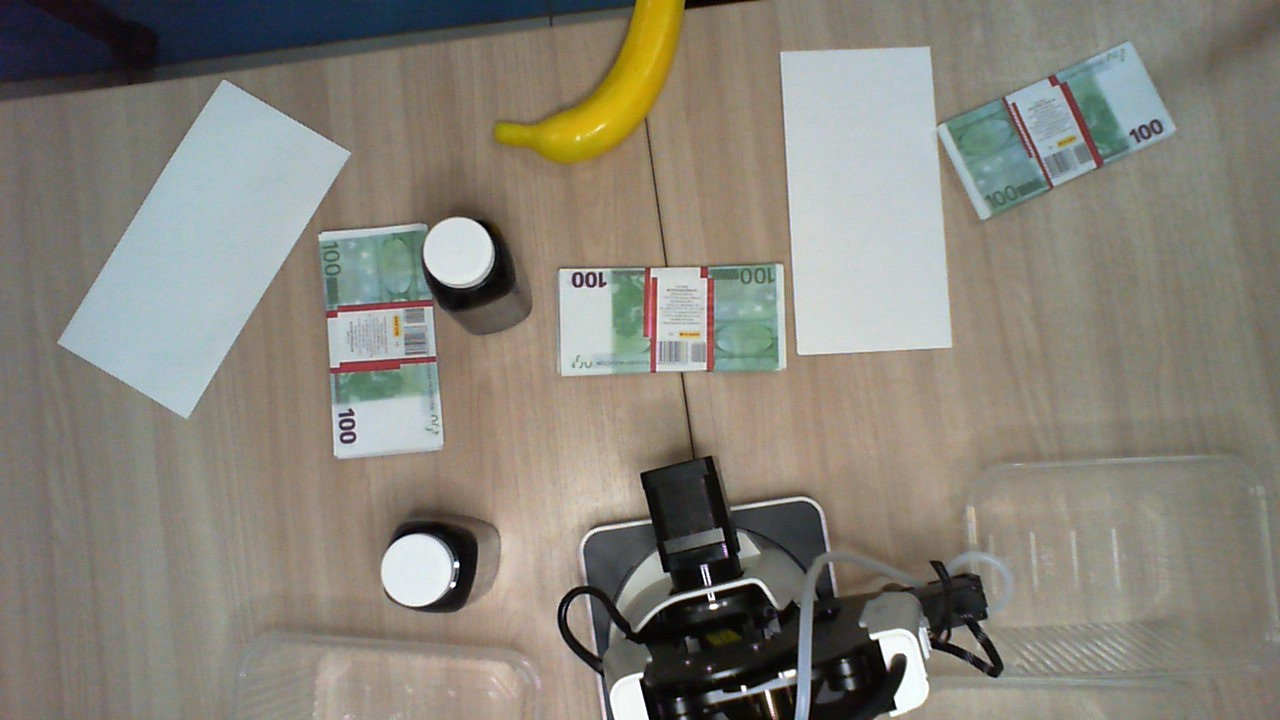banana: (491, 1, 691, 173)
bottle: (378, 517, 478, 615), (418, 215, 512, 306)
convert: (56, 75, 352, 424), (779, 45, 953, 358)
money: (938, 40, 1179, 221), (318, 223, 448, 466), (554, 260, 788, 379)
